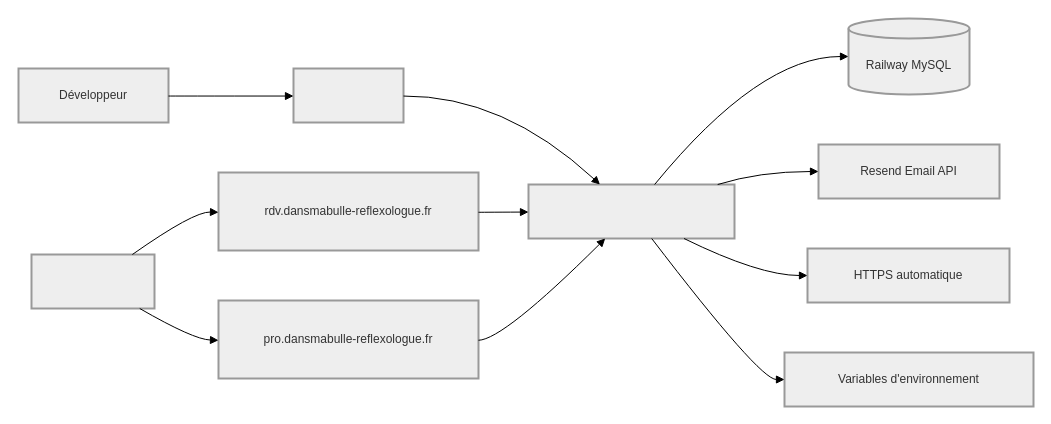
Image size: 1051x424. Some labels were removed from this diagram. Each missing label, with the centre of its shape:
GitHub: (x=348, y=95)
OVH DNS: (x=92, y=281)
Railway App Node.js: (x=631, y=211)
